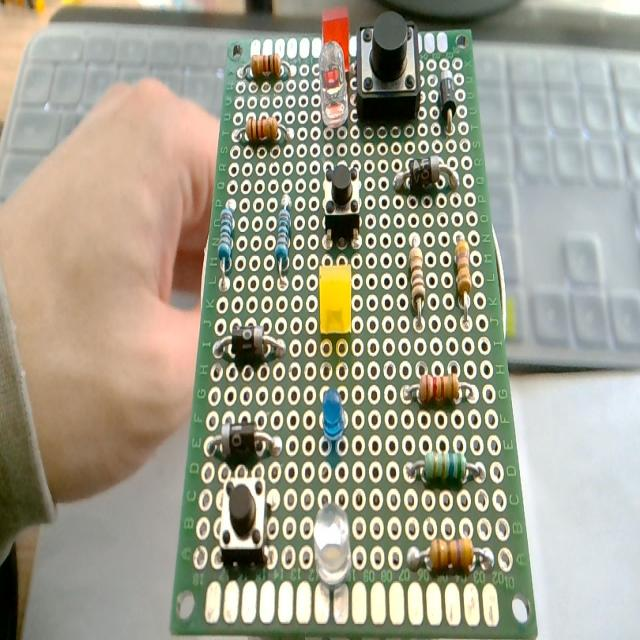diode: (208, 412, 282, 465), (395, 151, 460, 206), (208, 320, 282, 368), (434, 52, 462, 142)
led: (309, 492, 357, 616), (314, 33, 358, 140), (312, 260, 364, 344), (315, 381, 353, 458)
resistor: (418, 516, 488, 578), (414, 441, 481, 500), (400, 365, 470, 417), (237, 109, 297, 158), (406, 235, 434, 321), (214, 198, 238, 294), (270, 191, 292, 293), (242, 49, 289, 89), (450, 228, 470, 322)
switch: (352, 6, 426, 136), (213, 476, 287, 574), (320, 154, 364, 242)
